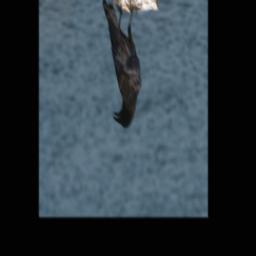Crow: (102, 0, 141, 129)
